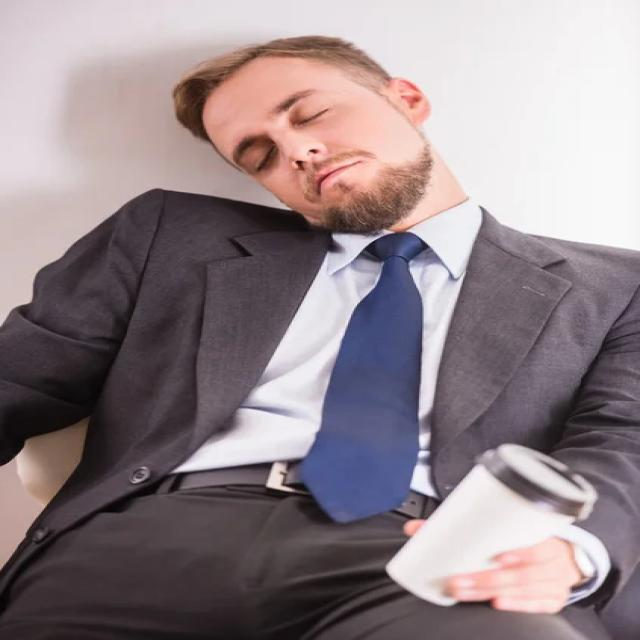Sleepy: (194, 55, 429, 225)
